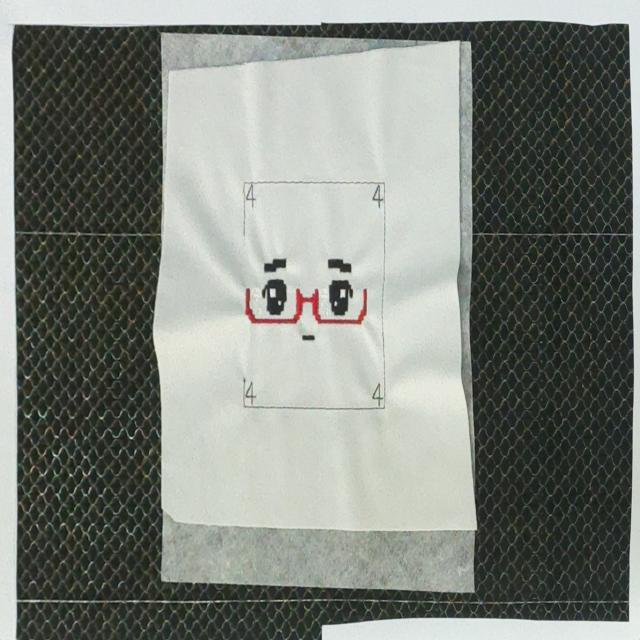4 -: (246, 379, 260, 407), (370, 185, 384, 210), (370, 382, 383, 406), (246, 184, 256, 210)
